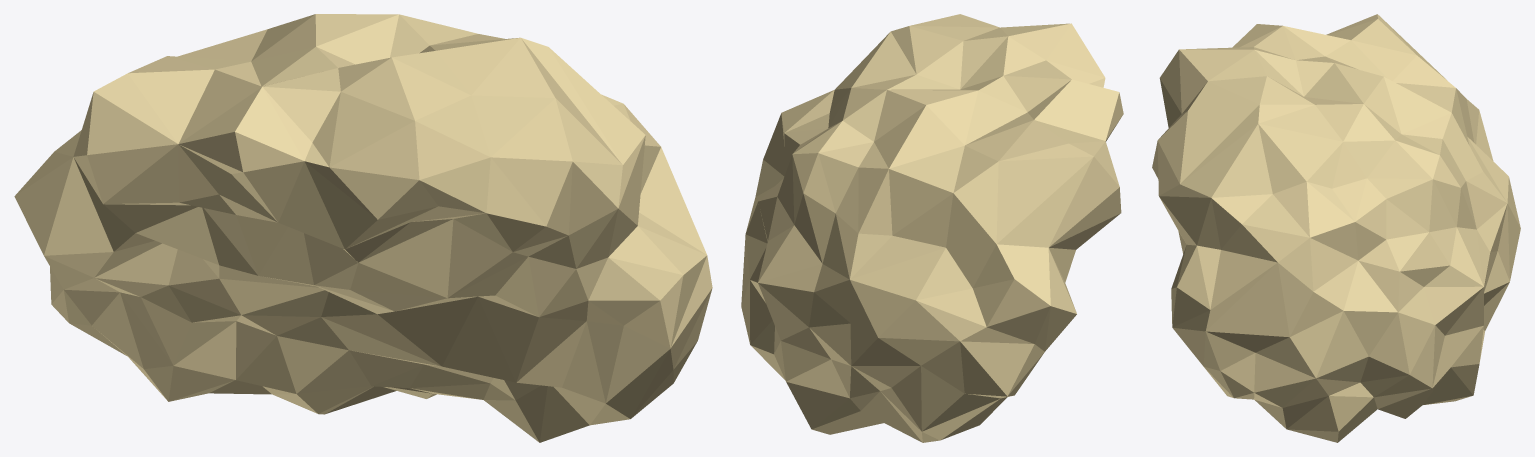
File: Asteroid (57).fbx
3 renders of one model, left to right at view 1: azimuth 30°, elevation 25°; view 2: azimuth 150°, elevation 25°; view 3: azimuth 270°, elevation 25°, orthographic. The views are drawn at different scales.
Parts seen in each view (by area): view 1: Asteroid219; view 2: Asteroid219; view 3: Asteroid219.
Part boxes in pixels (x1,y1,x2,y2): Asteroid219: [14, 14, 712, 442]; Asteroid219: [741, 14, 1123, 442]; Asteroid219: [1152, 14, 1520, 442].
Size of the model in its own units: 444 by 368 by 386.
